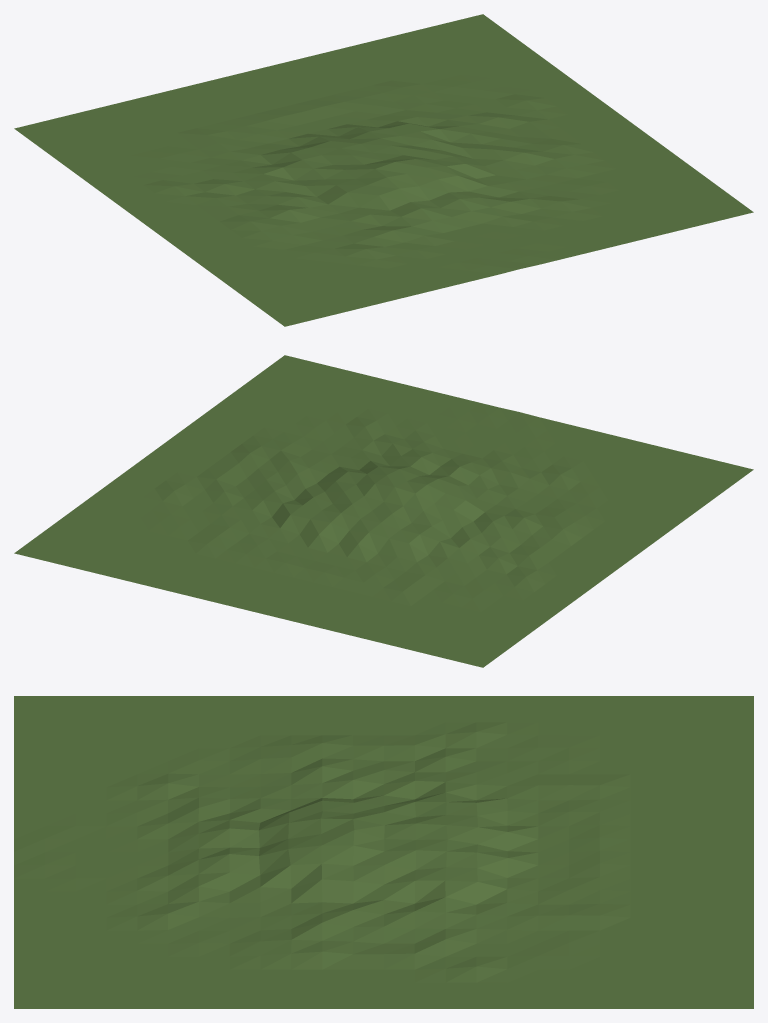
File: dissected_terrain_bumpy.glb
The picture shows the model from 3 angles, top to bottom: view 1: azimuth 30°, elevation 25°; view 2: azimuth 150°, elevation 25°; view 3: azimuth 270°, elevation 25°; orthographic projection. The views are drawn at different scales.
Visible parts, largest first — view 1: Grid; view 2: Grid; view 3: Grid.
Boxes of the visible parts, x1=… form: Grid: x1=14, y1=14, x2=753, y2=326; Grid: x1=14, y1=355, x2=753, y2=667; Grid: x1=14, y1=696, x2=753, y2=1008.
Bounding box in the file's own units: 1000 × 33.46 × 1000.
